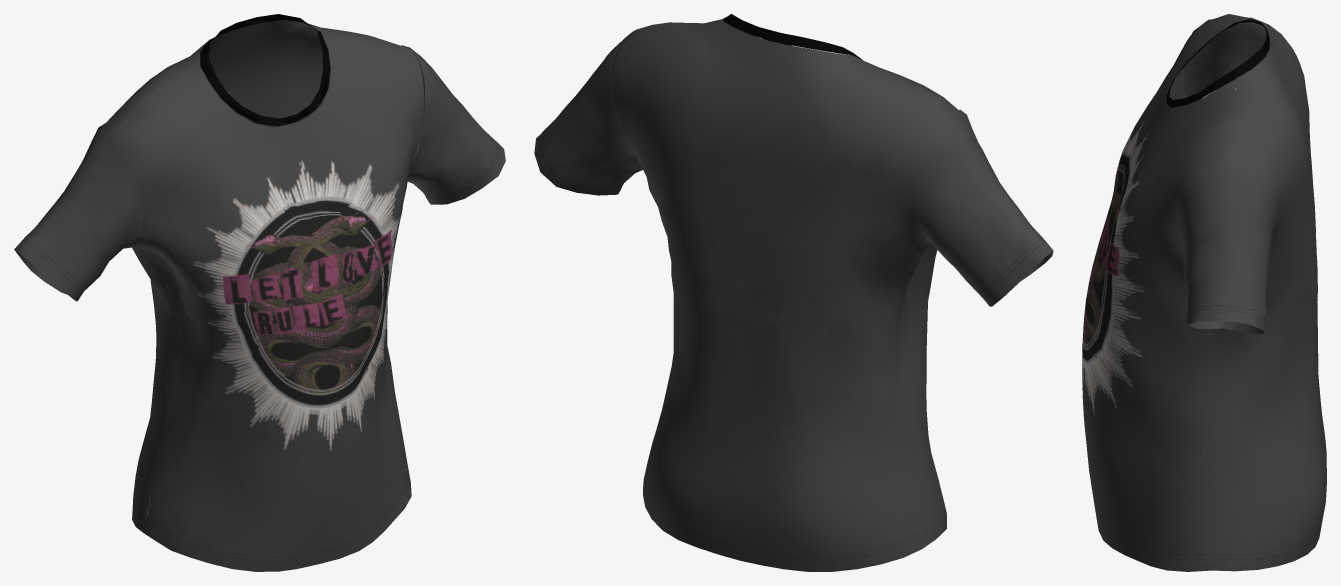
File: braceteelowpoly.fbx
3 renders of one model, left to right at view 1: azimuth 30°, elevation 25°; view 2: azimuth 150°, elevation 25°; view 3: azimuth 270°, elevation 25°, orthographic. The views are drawn at different scales.
Parts seen in each view (by area): view 1: BRACY TEE.袖子.M.001; view 2: BRACY TEE.袖子.M.001; view 3: BRACY TEE.袖子.M.001.
Part boxes in pixels (box(x1,y1,x2,y2)): BRACY TEE.袖子.M.001: box(14, 14, 505, 571); BRACY TEE.袖子.M.001: box(534, 14, 1053, 571); BRACY TEE.袖子.M.001: box(1082, 14, 1326, 571).
Size of the model in its own units: 67.22 by 64.65 by 29.21.
